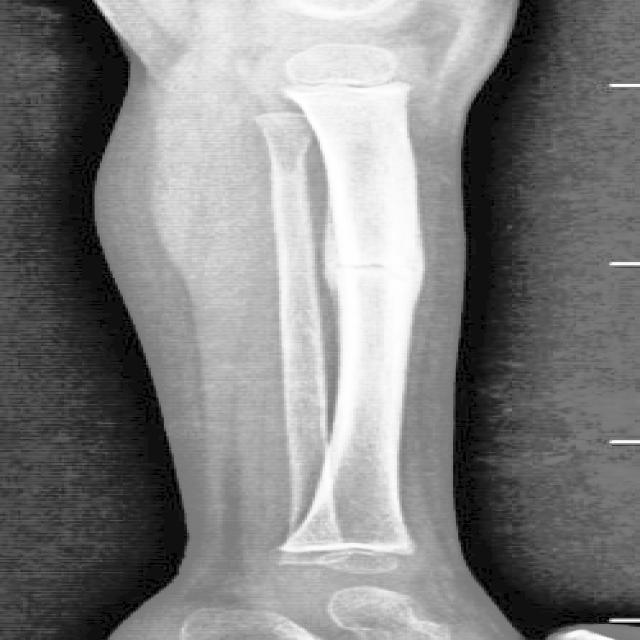GreenStick Fracture: (324, 243, 392, 319)
